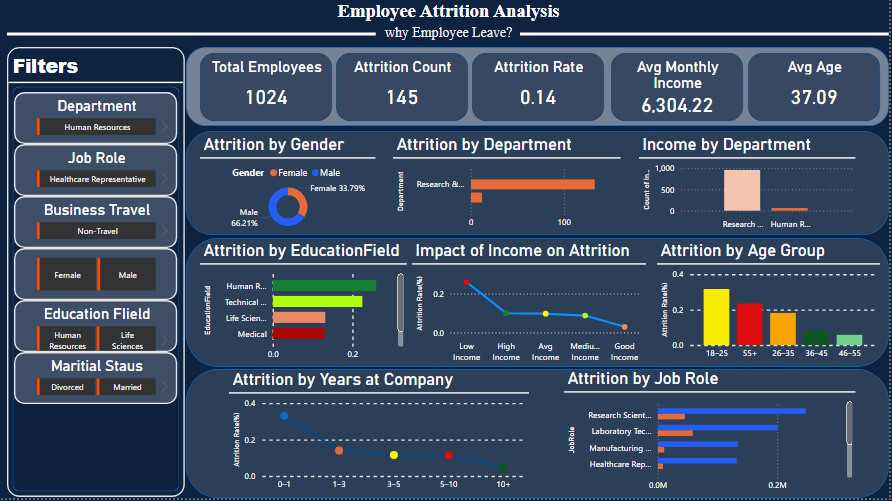

What the dashboard file says about the page in this screenshot:
{"tool":"powerbi","page":{"name":"Page 3","canvas":[1280,720],"ordinal":2},"visuals":[{"type":"shape","box":[267.8,534.2,1012.3,185.8],"z":0},{"type":"shape","box":[267.7,345.6,1012.3,185.8],"z":1000},{"type":"shape","box":[267.7,191.5,1012.3,149.8],"z":2000},{"type":"shape","box":[267.8,70.6,1012.3,113.8],"z":3000},{"type":"shape","title":"Filters","box":[10.1,70.6,256.3,648],"z":4000},{"type":"card","title":"Attrition Rate","fields":{"Values":["Hr_Data.Attrition Rate(%)"]},"box":[679.7,79.2,190.1,97.9],"z":5000},{"type":"card","title":"Avg Age","fields":{"Values":["Hr_Data.Avg Age"]},"box":[1077.1,79.2,190.1,97.9],"z":6000},{"type":"clusteredBarChart","title":"Attrition by Department","fields":{"Category":["Hr_Data.Department"],"Y":["Hr_Data.Attrition Count"]},"box":[565.9,197.3,328.3,144],"z":7000},{"type":"clusteredBarChart","title":"Attrition by Job Role","fields":{"Series":["Hr_Data.Attrition"],"Category":["Hr_Data.JobRole"],"Y":["Sum(Hr_Data.EmployeeNumber)"]},"box":[812.2,534.2,420.5,185.8],"z":8000},{"type":"donutChart","title":"Attrition by Gender","fields":{"Category":["Hr_Data.Gender"],"Y":["select","Hr_Data.Attrition Count"]},"box":[288,197.3,253.4,144],"z":9000},{"type":"slicer","title":"Department","fields":{"Values":["Hr_Data.Department"]},"box":[20.2,135.4,234.7,74.9],"z":10000,"group":"g1"},{"type":"columnChart","title":"Income by Department","fields":{"Category":["Hr_Data.Department"],"Y":["CountNonNull(Hr_Data.Income Slab)"]},"box":[920.2,197.3,312.5,144],"z":10000},{"type":"textbox","title":"Employee Attrition Analysis","box":[457.9,2.9,375.8,64.8],"z":11000},{"type":"clusteredColumnChart","title":"Attrition by Age Group","fields":{"Category":["Hr_Data.Age Group"],"Y":["Hr_Data.Attrition Rate(%)"]},"box":[946.1,349.9,321.1,180],"z":12000},{"type":"lineChart","title":"Impact of Income on Attrition ","fields":{"Category":["Hr_Data.Income Slab"],"Y":["Hr_Data.Attrition Rate(%)"]},"box":[593.3,349.9,337,182.9],"z":13000},{"type":"lineChart","title":"Attrition by Years at Company","fields":{"Category":["Hr_Data.Years Group"],"Y":["Hr_Data.Attrition Rate(%)"]},"box":[329.8,535.7,432,182.9],"z":14000},{"type":"barChart","title":"Attrition by EducationField","fields":{"Y":["Hr_Data.Attrition Rate(%)"],"Category":["Hr_Data.EducationField"]},"box":[288,349.9,298.1,181.4],"z":15000},{"type":"slicer","title":"Job Role","fields":{"Values":["Hr_Data.JobRole"]},"box":[20.2,210.3,234.7,74.9],"z":16000,"group":"g1"},{"type":"group","id":"g1","title":"Group 1","box":[20.2,135.4,234.7,449.3],"z":16000},{"type":"card","title":"Total Employees","fields":{"Values":["Hr_Data.Total Employess"]},"box":[288,79.2,190.1,97.9],"z":17000},{"type":"slicer","fields":{"Values":["Hr_Data.Gender"]},"box":[20.2,360,235,75],"z":17000,"group":"g1"},{"type":"card","title":"Attrition Count","fields":{"Values":["Hr_Data.Attrition Count"]},"box":[483.8,79.2,190.1,97.9],"z":18000},{"type":"slicer","title":"Maritial Staus","fields":{"Values":["Hr_Data.MaritalStatus"]},"box":[20.2,509.8,234.7,74.9],"z":18000,"group":"g1"},{"type":"card","title":"Avg Monthly Income","fields":{"Values":["Hr_Data.Avg Monthly Income"]},"box":[879.8,79.2,190.1,97.9],"z":19000},{"type":"slicer","title":"Education FIield","fields":{"Values":["Hr_Data.EducationField"]},"box":[20.2,434.9,234.7,74.9],"z":19000,"group":"g1"},{"type":"shape","box":[10.1,33.1,531.4,37.4],"z":19001},{"type":"shape","box":[748.8,33.1,531.4,37.4],"z":19002},{"type":"slicer","title":"Business Travel","fields":{"Values":["Hr_Data.BusinessTravel"]},"box":[20.2,285.2,234.7,74.9],"z":20000,"group":"g1"}]}

Visuals, with their boxes in screenshot pixels (x1, y1, x2, y2), scaled from the page's 1280x720 canvas onto the 892x501 screenshot:
shape: x1=187, y1=372, x2=891, y2=500
shape: x1=187, y1=240, x2=891, y2=370
shape: x1=187, y1=133, x2=891, y2=237
shape: x1=187, y1=49, x2=891, y2=128
"Filters" shape: x1=7, y1=49, x2=186, y2=500
"Attrition Rate" card: x1=474, y1=55, x2=606, y2=123
"Avg Age" card: x1=751, y1=55, x2=883, y2=123
"Attrition by Department" clusteredBarChart: x1=394, y1=137, x2=623, y2=237
"Attrition by Job Role" clusteredBarChart: x1=566, y1=372, x2=859, y2=500
"Attrition by Gender" donutChart: x1=201, y1=137, x2=377, y2=237
"Department" slicer: x1=14, y1=94, x2=178, y2=146
"Income by Department" columnChart: x1=641, y1=137, x2=859, y2=237
"Employee Attrition Analysis" textbox: x1=319, y1=2, x2=581, y2=47
"Attrition by Age Group" clusteredColumnChart: x1=659, y1=243, x2=883, y2=369
"Impact of Income on Attrition " lineChart: x1=413, y1=243, x2=648, y2=371
"Attrition by Years at Company" lineChart: x1=230, y1=373, x2=531, y2=500
"Attrition by EducationField" barChart: x1=201, y1=243, x2=408, y2=370
"Job Role" slicer: x1=14, y1=146, x2=178, y2=198
"Group 1" group: x1=14, y1=94, x2=178, y2=407
"Total Employees" card: x1=201, y1=55, x2=333, y2=123
slicer - Hr_Data.Gender: x1=14, y1=250, x2=178, y2=303
"Attrition Count" card: x1=337, y1=55, x2=470, y2=123
"Maritial Staus" slicer: x1=14, y1=355, x2=178, y2=407
"Avg Monthly Income" card: x1=613, y1=55, x2=746, y2=123
"Education FIield" slicer: x1=14, y1=303, x2=178, y2=355
shape: x1=7, y1=23, x2=377, y2=49
shape: x1=522, y1=23, x2=891, y2=49
"Business Travel" slicer: x1=14, y1=198, x2=178, y2=251
